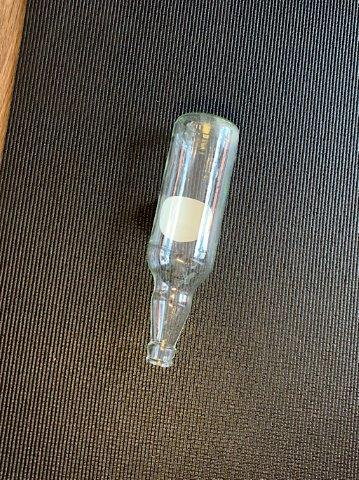botolkaca: (145, 113, 240, 367)
